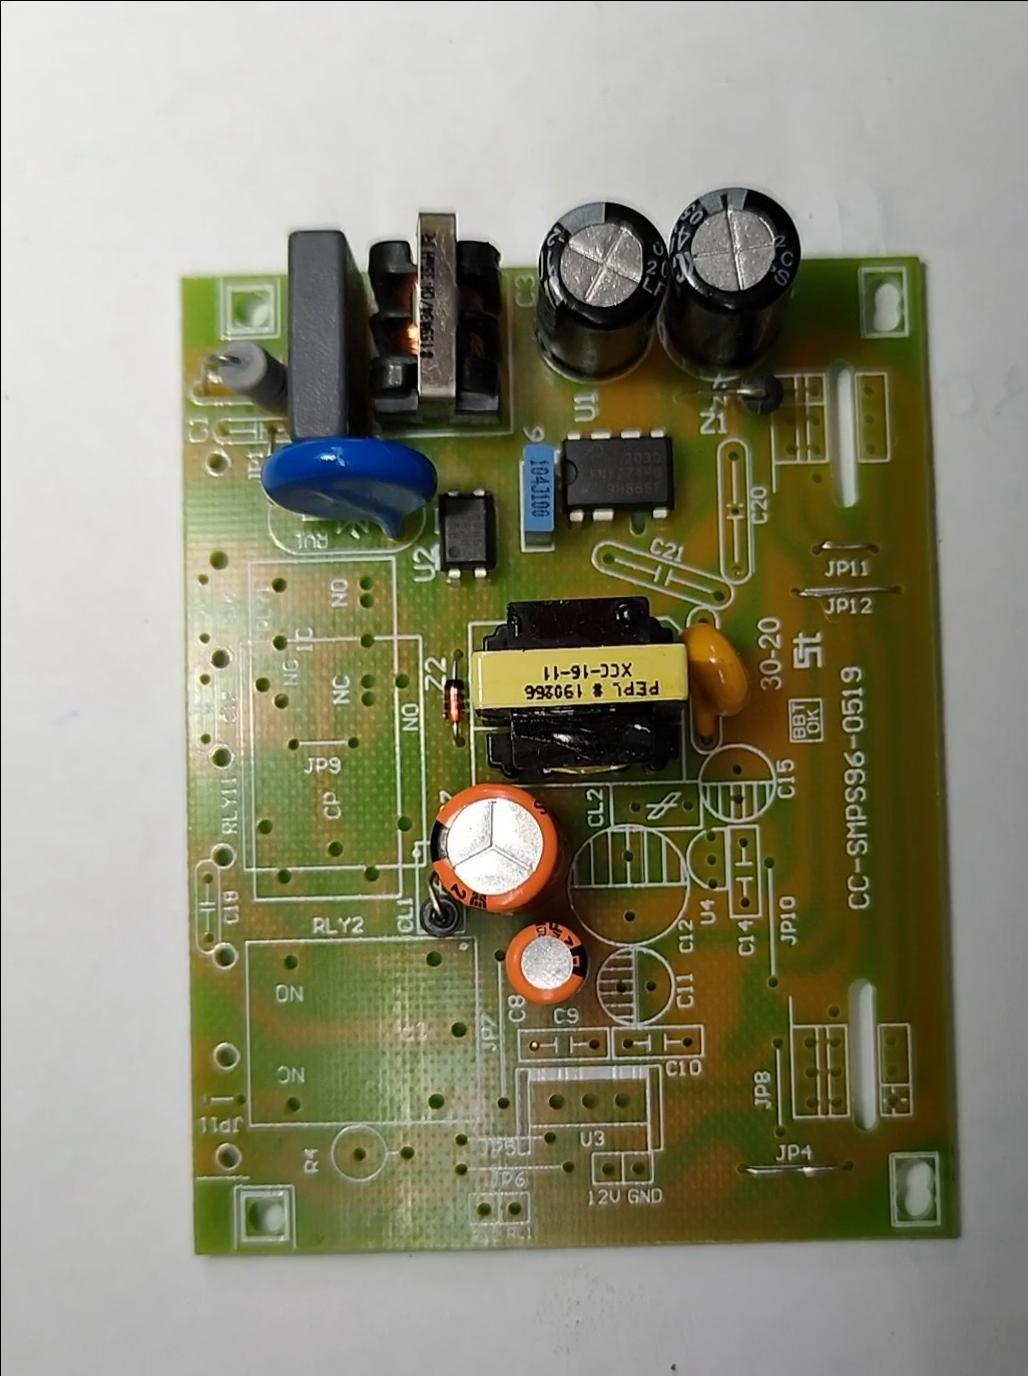Cap1: (423, 779, 554, 917)
Cap2: (503, 913, 589, 1011)
Cap3: (533, 195, 659, 381)
Cap4: (671, 183, 797, 381)
MOSFET: (559, 424, 672, 524)
Mov: (255, 435, 434, 552)
Resistor: (209, 338, 289, 418)
Transformer: (466, 593, 690, 774), (355, 208, 506, 424)
